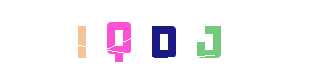D: (123, 0, 203, 80)
I: (79, 0, 159, 80)
J: (171, 0, 251, 80)
Q: (119, 0, 199, 80)
